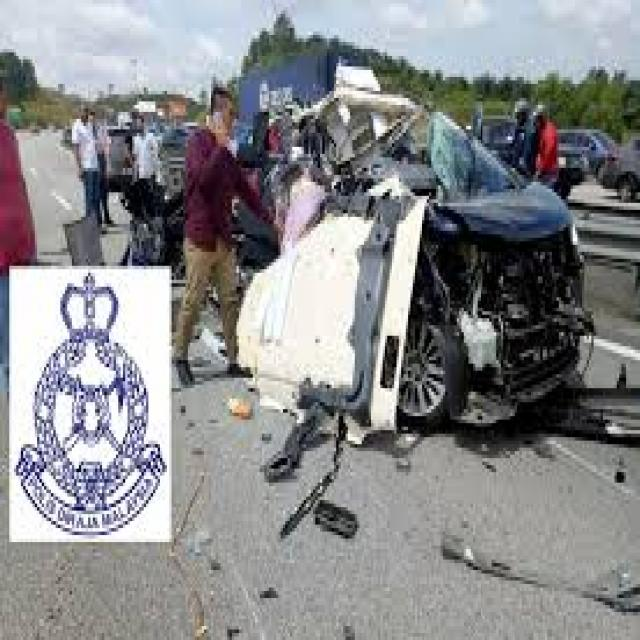accident: (231, 61, 608, 514)
